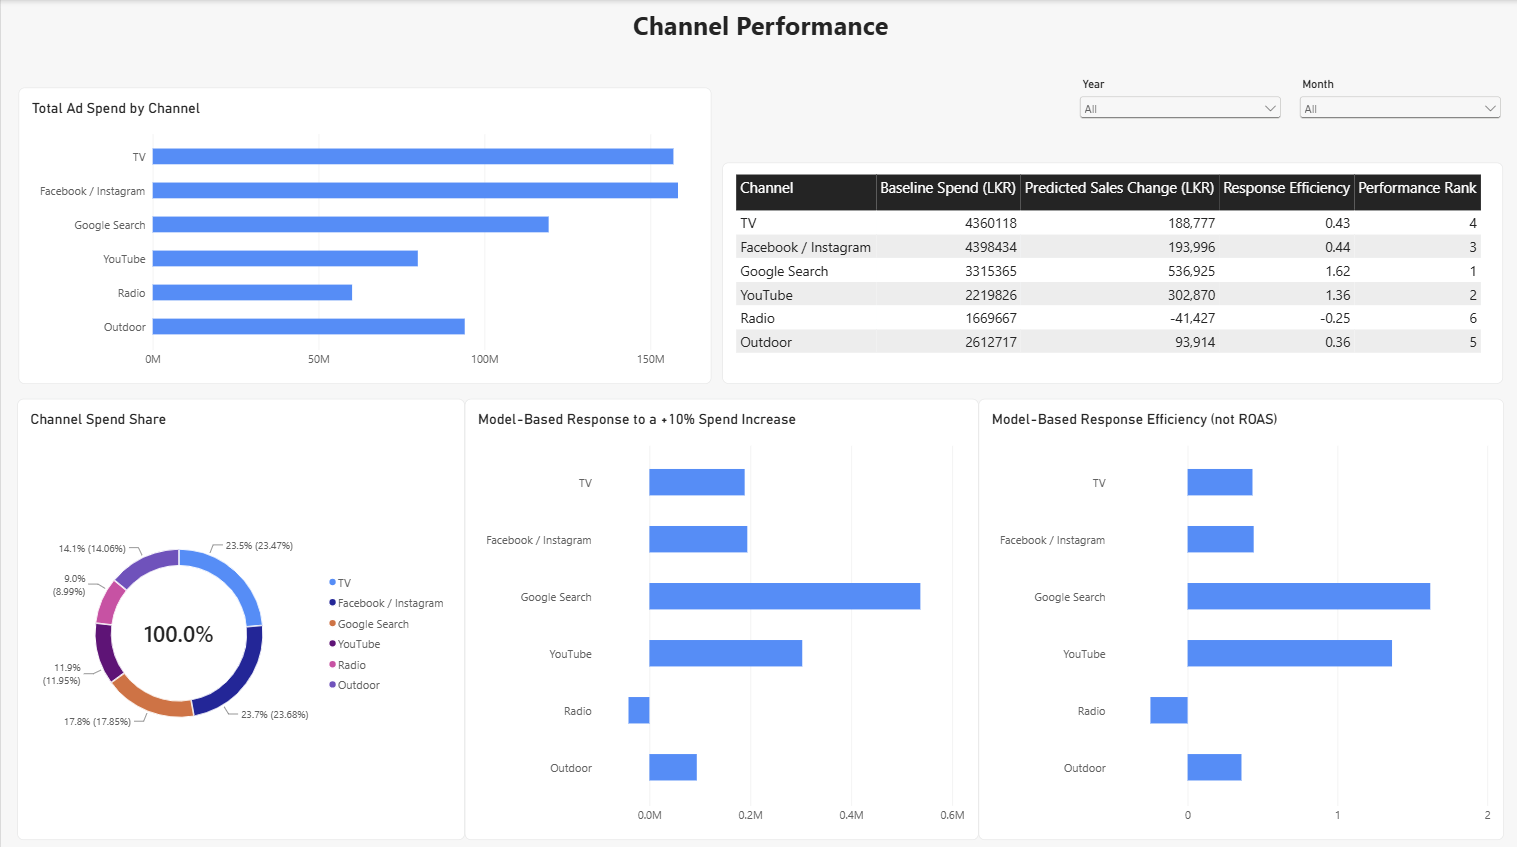

This screenshot's page, from the dashboard's own definition file:
{"tool":"powerbi","page":{"name":"Channel Performance","canvas":[1920,1080],"ordinal":1},"visuals":[{"type":"textbox","box":[10,0,280,280],"z":0},{"type":"textbox","box":[20,10,1881.7,53.3],"z":1000},{"type":"slicer","fields":{"Values":["Calendar.Year"]},"box":[1360,98.3,264,83],"z":2000},{"type":"slicer","fields":{"Values":["Calendar.Month"]},"box":[1638.3,98.3,264,83],"z":3000},{"type":"clusteredBarChart","title":"Total Ad Spend by Channel","fields":{"Category":["Dim_Channel.channel"],"Y":["_Measures.Channel Spend (LKR)"]},"box":[21.7,110,876.7,375],"z":4000},{"type":"donutChart","title":"Channel Spend Share","fields":{"Category":["Dim_Channel.channel"],"Y":["_Measures.Channel Spend Share"]},"box":[20,505,566.7,558.3],"z":5000},{"type":"clusteredBarChart","title":"Model-Based Response to a +10% Spend Increase","fields":{"Category":["Dim_Channel.channel"],"Y":["_Measures.Predicted Sales Change (LKR)"]},"box":[586.7,505,650,558.3],"z":6000},{"type":"clusteredBarChart","title":"Model-Based Response Efficiency (not ROAS)","fields":{"Category":["Dim_Channel.channel"],"Y":["_Measures.Response Efficiency"]},"box":[1236.7,505,665,558.3],"z":7000},{"type":"tableEx","fields":{"Values":["Dim_Channel.channel","Sum(channel_effectiveness.Baseline_Spend)","_Measures.Predicted Sales Change (LKR)","_Measures.Response Efficiency","Sum(channel_effectiveness.Performance_Rank)"]},"box":[913.3,205,988.3,280],"z":8000}]}

Visuals, with their boxes in screenshot pixels (x1, y1, x2, y2), scaled from the page's 1920x1080 canvas onto the 1517x847 screenshot:
textbox: [8, 0, 229, 220]
textbox: [16, 8, 1503, 50]
slicer - Calendar.Year: [1075, 77, 1283, 142]
slicer - Calendar.Month: [1294, 77, 1503, 142]
"Total Ad Spend by Channel" clusteredBarChart: [17, 86, 710, 380]
"Channel Spend Share" donutChart: [16, 396, 464, 834]
"Model-Based Response to a +10% Spend Increase" clusteredBarChart: [464, 396, 977, 834]
"Model-Based Response Efficiency (not ROAS)" clusteredBarChart: [977, 396, 1503, 834]
tableEx - Dim_Channel.channel x Sum(channel_effectiveness.Baseline_Spend): [722, 161, 1502, 380]
